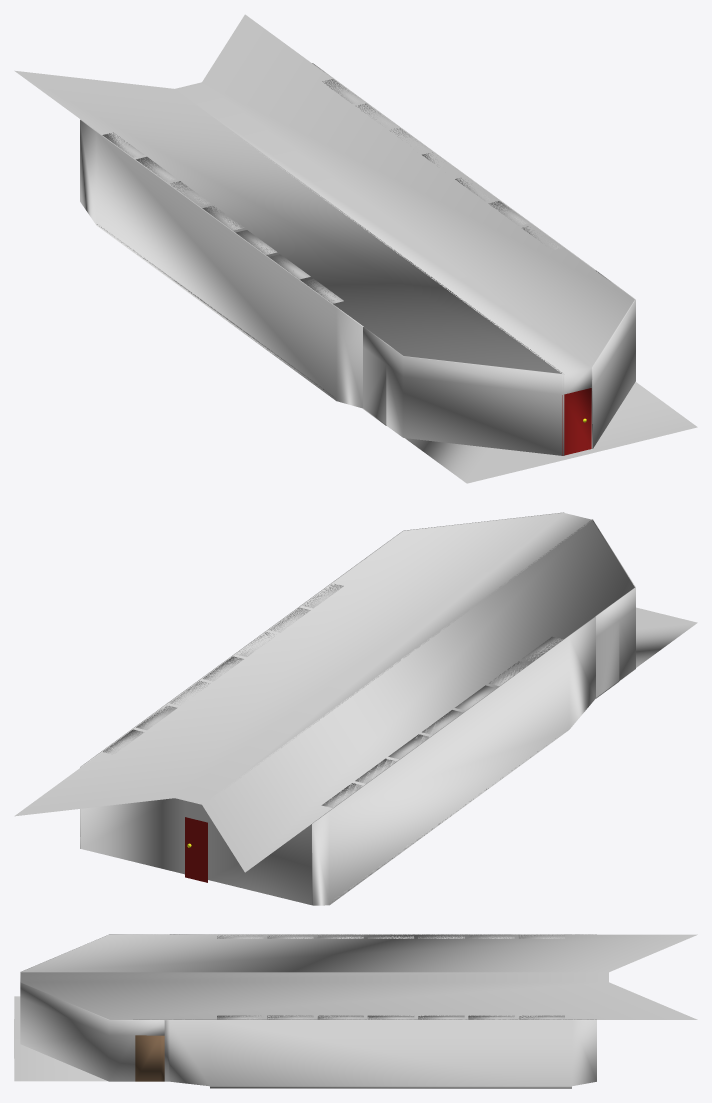
3 renders of one model, top to bottom at view 1: azimuth 30°, elevation 25°; view 2: azimuth 150°, elevation 25°; view 3: azimuth 270°, elevation 25°, orthographic. The views are drawn at different scales.
Parts seen in each view (by area): view 1: Cube, Cube.026; view 2: Cube, Cube.026; view 3: Cube.026, Cube.
Boxes of the visible parts, box(x1,y1,x2,y2) form: Cube: box(14, 70, 586, 483); Cube.026: box(175, 14, 697, 455); Cube: box(185, 519, 697, 905); Cube.026: box(14, 512, 592, 874); Cube.026: box(14, 972, 697, 1088); Cube: box(14, 934, 697, 1038).
Size of the model in its own units: 40.4 by 15.5 by 136.
